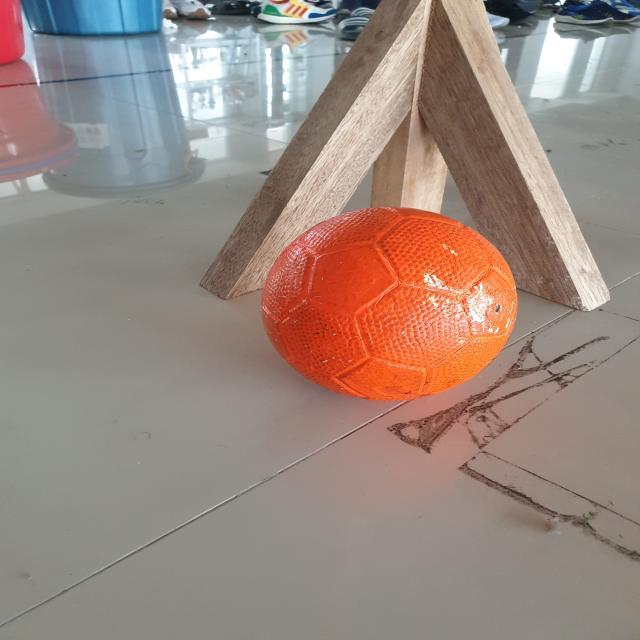bola: (248, 194, 532, 426)
